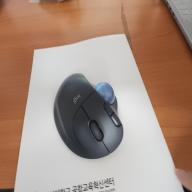mouse: (51, 72, 128, 162)
